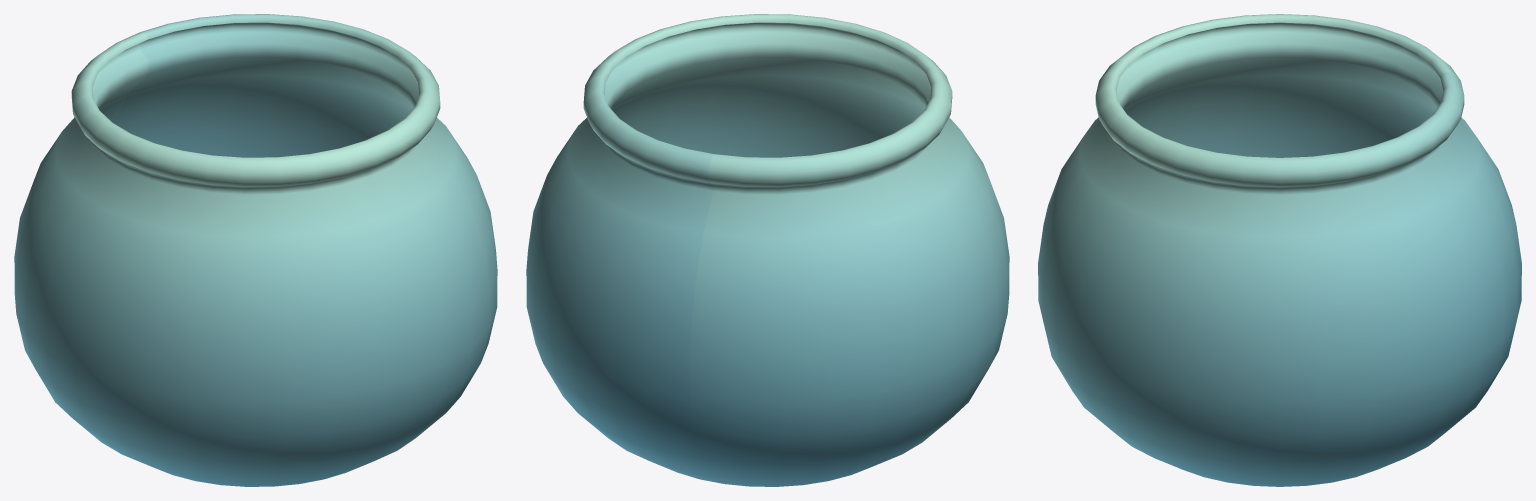
Rendered from island2-aquarium.fbx.
The picture shows the model from 3 angles, left to right: view 1: azimuth 30°, elevation 25°; view 2: azimuth 150°, elevation 25°; view 3: azimuth 270°, elevation 25°; orthographic projection.
Parts seen in each view (by area): view 1: aquarium; view 2: aquarium; view 3: aquarium.
Part boxes in pixels (x1,y1,x2,y2): aquarium: [14, 14, 497, 486]; aquarium: [526, 14, 1009, 486]; aquarium: [1038, 14, 1521, 486].
Bounding box in the file's own units: 6.32 × 4.96 × 6.32.
1 material, 1 textured.
